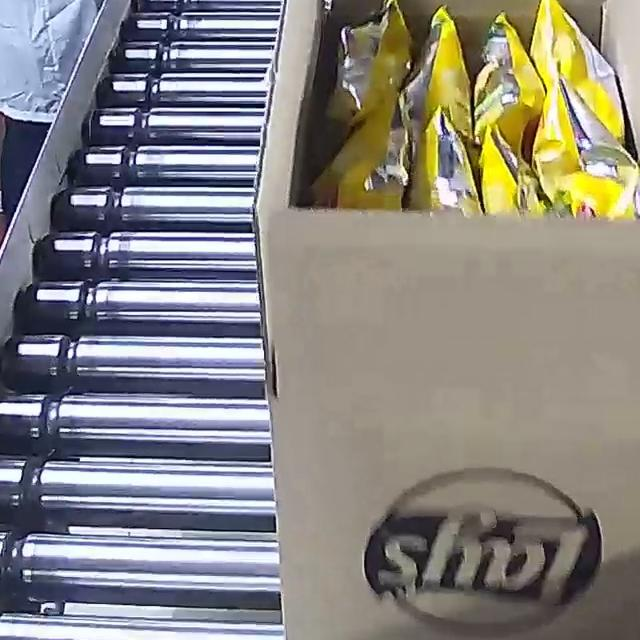salted: (327, 0, 640, 230)
